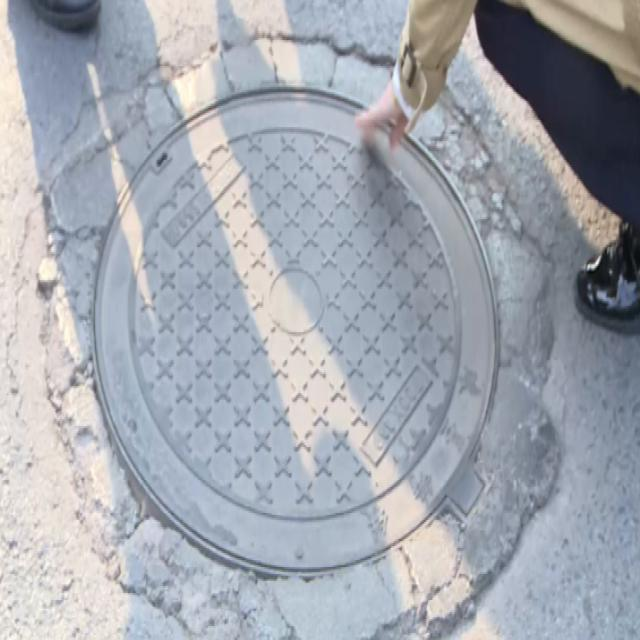manhole: (95, 48, 548, 576)
